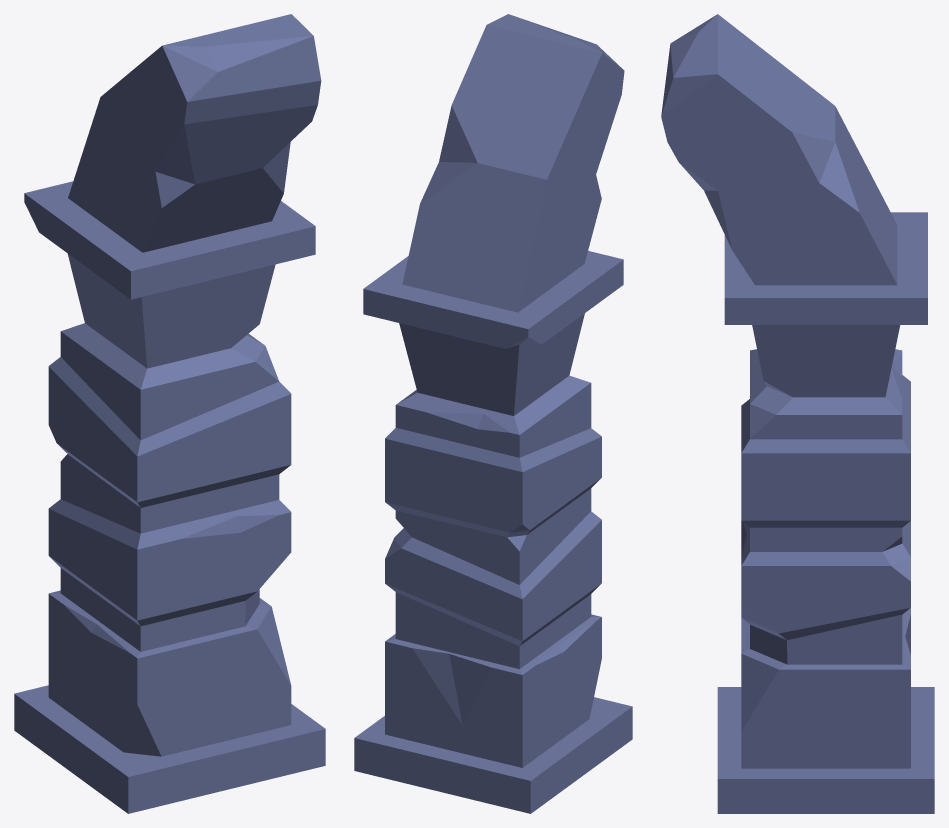
The model's file is arch_2_dstr_3.fbx.
3 renders of one model, left to right at view 1: azimuth 30°, elevation 25°; view 2: azimuth 150°, elevation 25°; view 3: azimuth 270°, elevation 25°, orthographic. The views are drawn at different scales.
Parts seen in each view (by area): view 1: arch_2_dstr_3; view 2: arch_2_dstr_3; view 3: arch_2_dstr_3.
Part boxes in pixels (bbox=[...]): arch_2_dstr_3: bbox=[14, 14, 325, 813]; arch_2_dstr_3: bbox=[354, 14, 632, 813]; arch_2_dstr_3: bbox=[661, 14, 934, 813].
Size of the model in its own units: 2.18 by 8.03 by 2.75.
